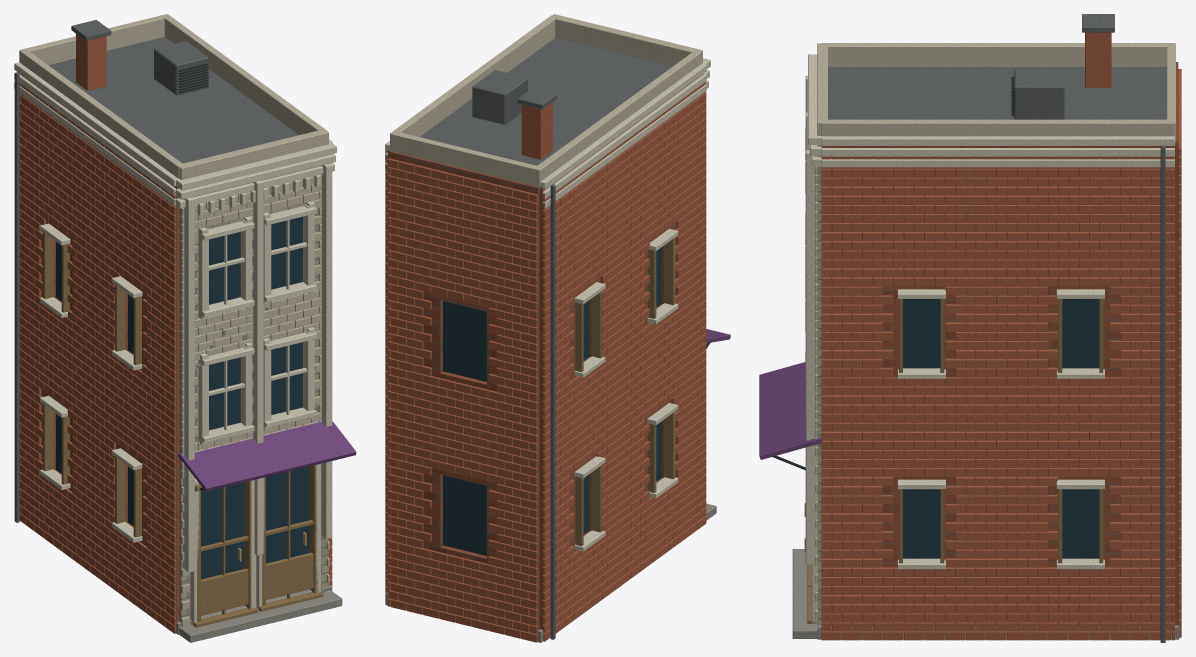
The model's file is BUSS9_lod0.glb.
3 renders of one model, left to right at view 1: azimuth 30°, elevation 25°; view 2: azimuth 150°, elevation 25°; view 3: azimuth 270°, elevation 25°, orthographic. The views are drawn at different scales.
Parts seen in each view (by area): view 1: BUSS9_LOD0; view 2: BUSS9_LOD0; view 3: BUSS9_LOD0.
Part boxes in pixels (x1=…): BUSS9_LOD0: x1=14, y1=14, x2=356, y2=642; BUSS9_LOD0: x1=385, y1=14, x2=730, y2=642; BUSS9_LOD0: x1=759, y1=14, x2=1181, y2=642.
Bounding box in the file's own units: 3.71 × 10.45 × 7.17.
Materials: 17 (14 with a texture image).
